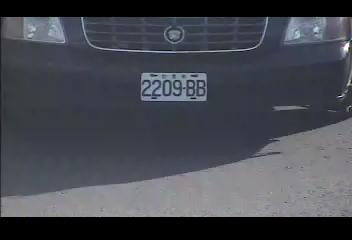plate: (139, 70, 209, 102)
